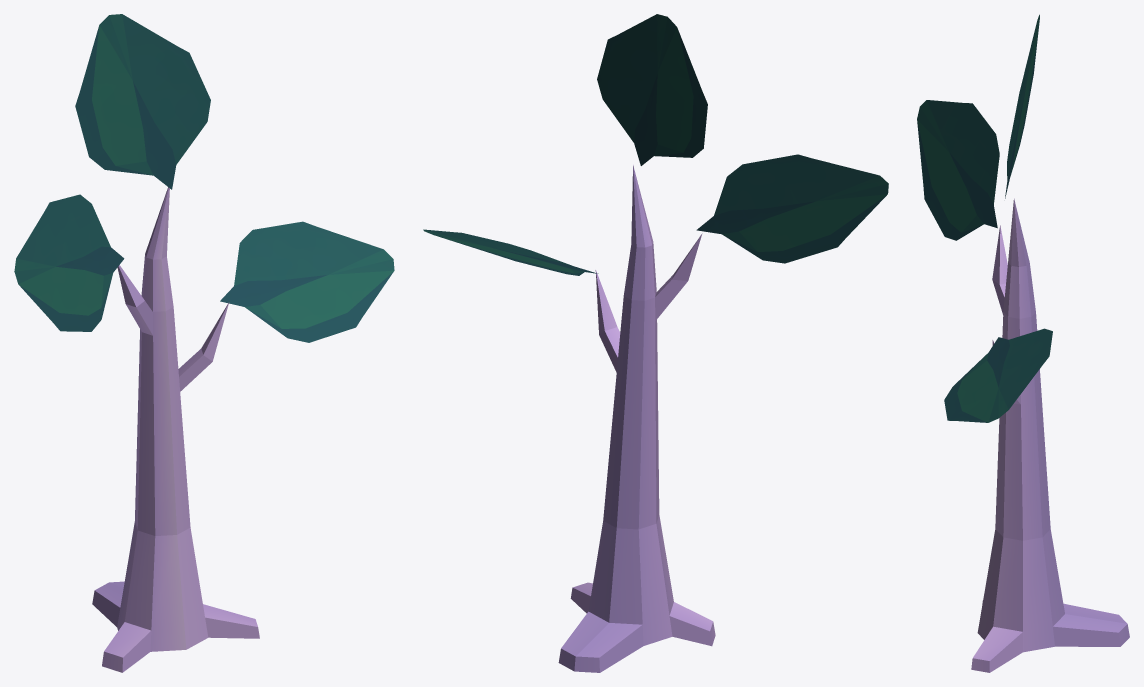
The model's file is Garden_HousePlant02.fbx.
3 views of the same model, side by side, from view 1: azimuth 30°, elevation 25°; view 2: azimuth 150°, elevation 25°; view 3: azimuth 270°, elevation 25° (orthographic). The views are drawn at different scales.
Parts seen in each view (by area): view 1: Cylinder.216; view 2: Cylinder.216; view 3: Cylinder.216.
Boxes of the visible parts, left/top/right/bottom form: Cylinder.216: left=14, top=14, right=394, bottom=672; Cylinder.216: left=423, top=14, right=888, bottom=672; Cylinder.216: left=917, top=14, right=1129, bottom=672.
Bounding box in the file's own units: 16.75 × 24.06 × 7.65.
